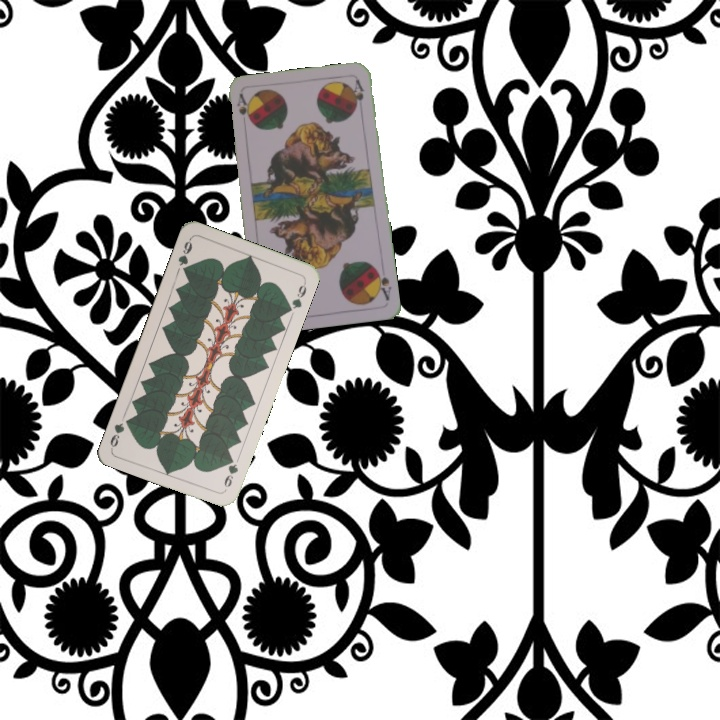G9: (174, 235, 195, 276), (220, 453, 241, 490)
SA: (372, 264, 394, 303), (233, 90, 251, 122)
